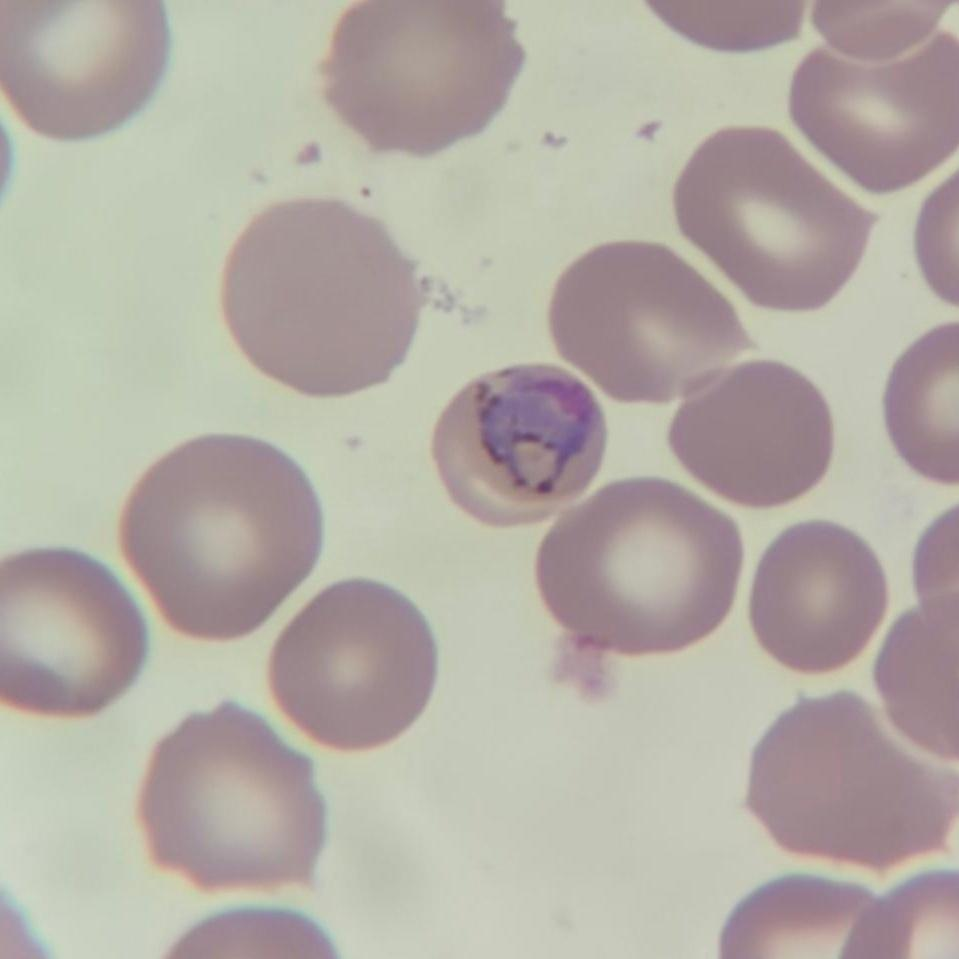Infected: (432, 360, 608, 522)
Uninfected: (120, 438, 328, 637), (536, 470, 744, 656), (672, 128, 874, 314), (224, 206, 422, 394), (744, 686, 950, 862), (136, 704, 326, 891), (548, 244, 758, 407), (322, 0, 525, 157), (792, 16, 959, 194), (266, 576, 435, 751), (0, 546, 146, 715), (672, 360, 834, 504), (0, 0, 168, 135), (750, 518, 890, 675)
